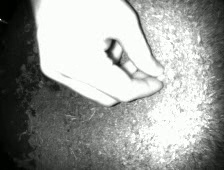corn: (155, 72, 167, 83)
